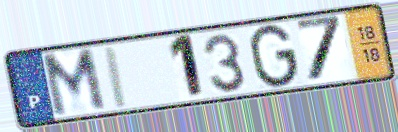1: (166, 32, 208, 102)
3: (200, 31, 249, 94)
7: (294, 13, 346, 85)
G: (248, 22, 301, 90)
I: (101, 43, 132, 111)
M: (38, 45, 110, 120)
